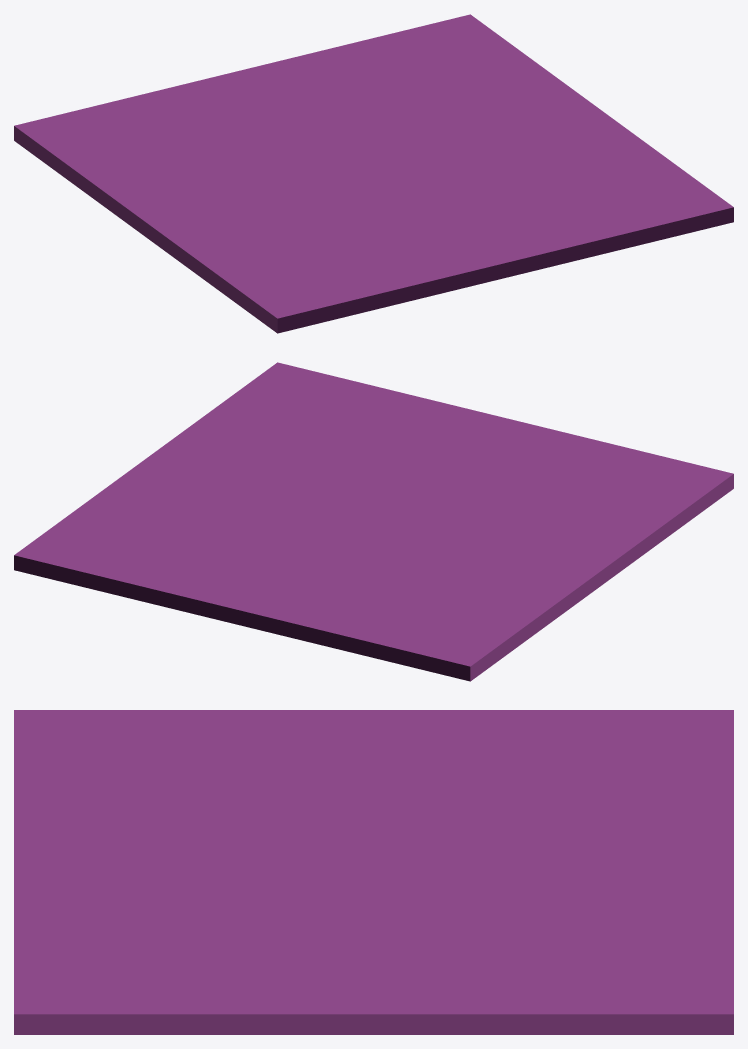
The model's file is cuboRosa_2.FBX.
The picture shows the model from 3 angles, top to bottom: view 1: azimuth 30°, elevation 25°; view 2: azimuth 150°, elevation 25°; view 3: azimuth 270°, elevation 25°; orthographic projection. The views are drawn at different scales.
Visible parts, largest first — view 1: Box001; view 2: Box001; view 3: Box001.
Boxes of the visible parts, x1=… form: Box001: x1=14, y1=14, x2=733, y2=333; Box001: x1=14, y1=362, x2=733, y2=681; Box001: x1=14, y1=710, x2=733, y2=1034.
Size of the model in its own units: 8 by 0.25 by 8.
